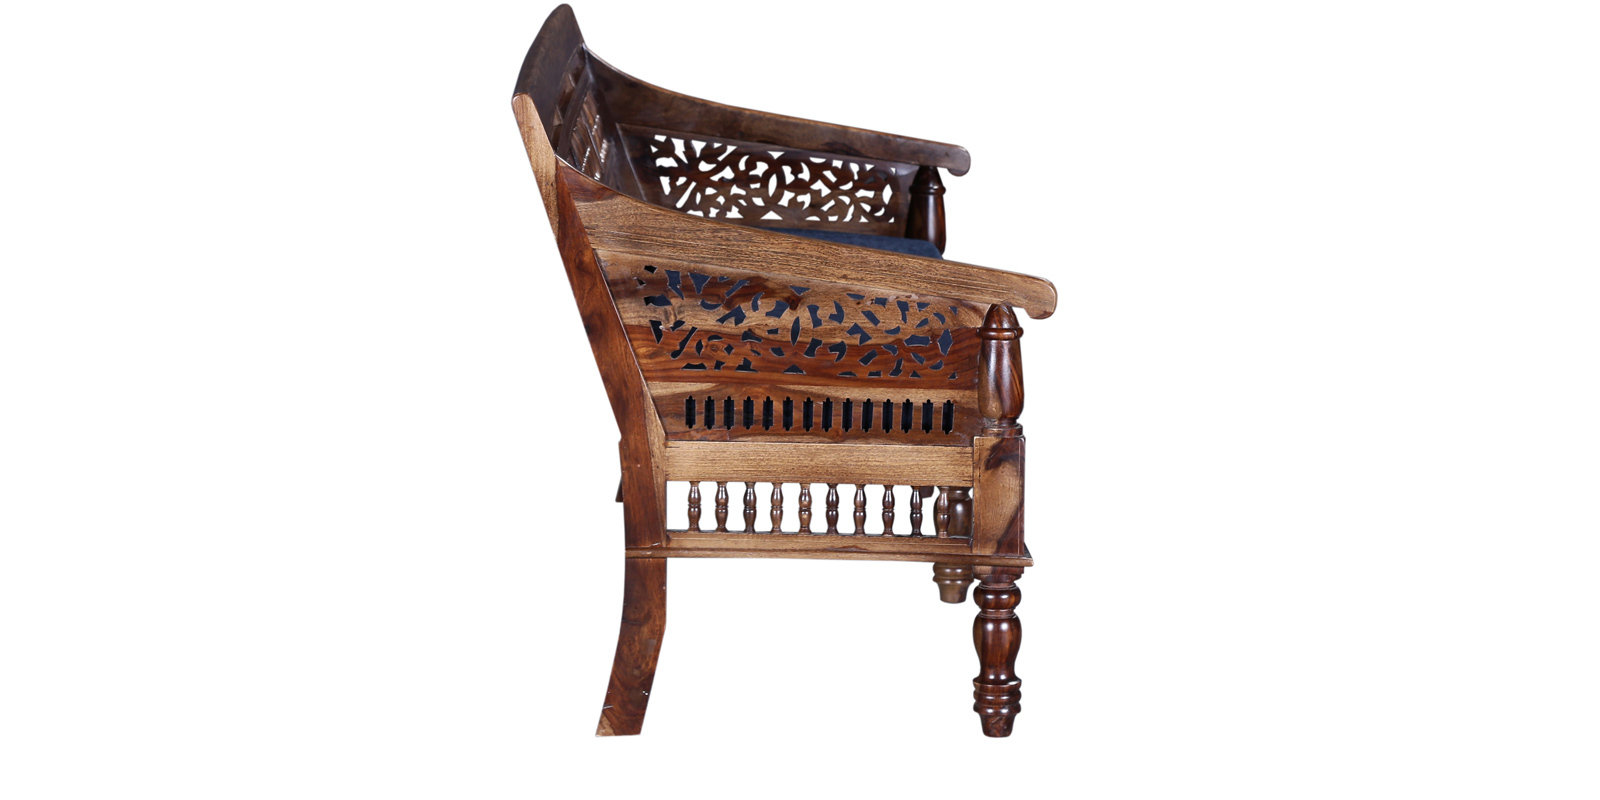Maurya Handcrafted Three Seater Sofa in Provincial Teak Finish by Mudramark: (511, 1, 1061, 737)
